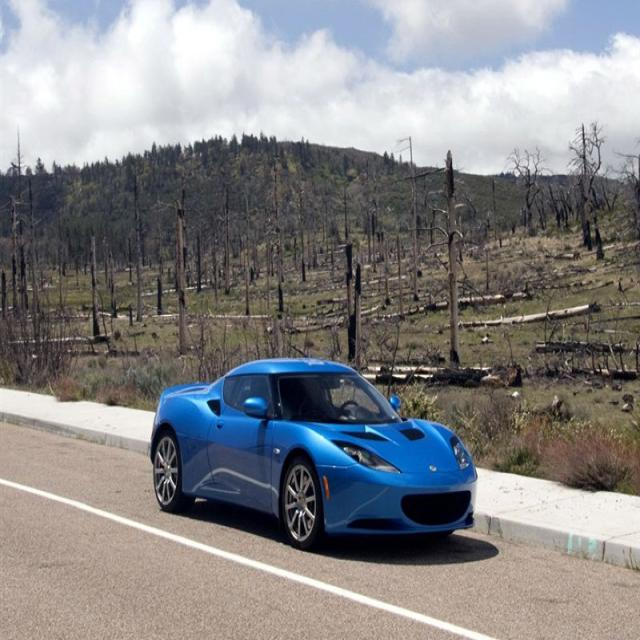front_bumper: (318, 463, 478, 535)
front_left_side_light: (450, 436, 472, 474)
front_left_side_mirror: (388, 393, 402, 413)
front_right_side_door: (206, 371, 276, 512)
front_right_side_light: (330, 437, 400, 473)
front_right_side_mirror: (242, 395, 268, 421)
wheel: (282, 458, 321, 544), (153, 431, 184, 510)
